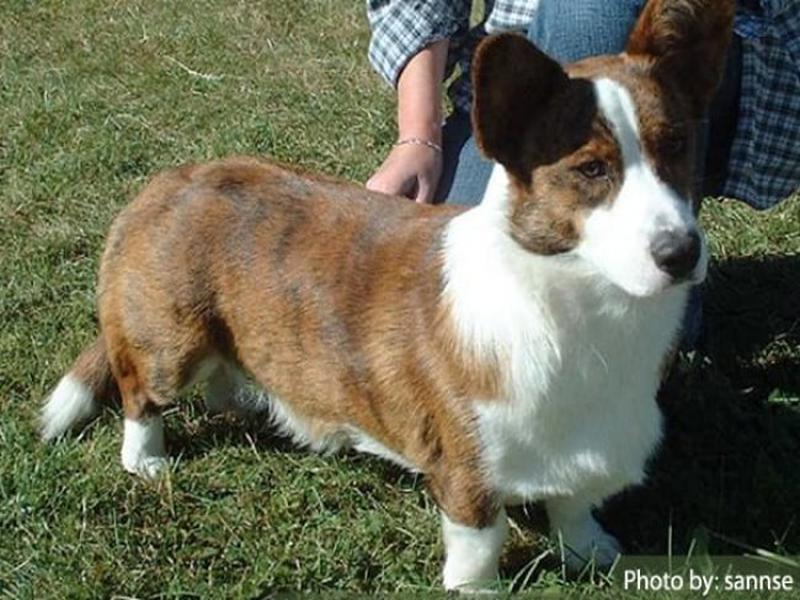corgi: (467, 2, 735, 299)
